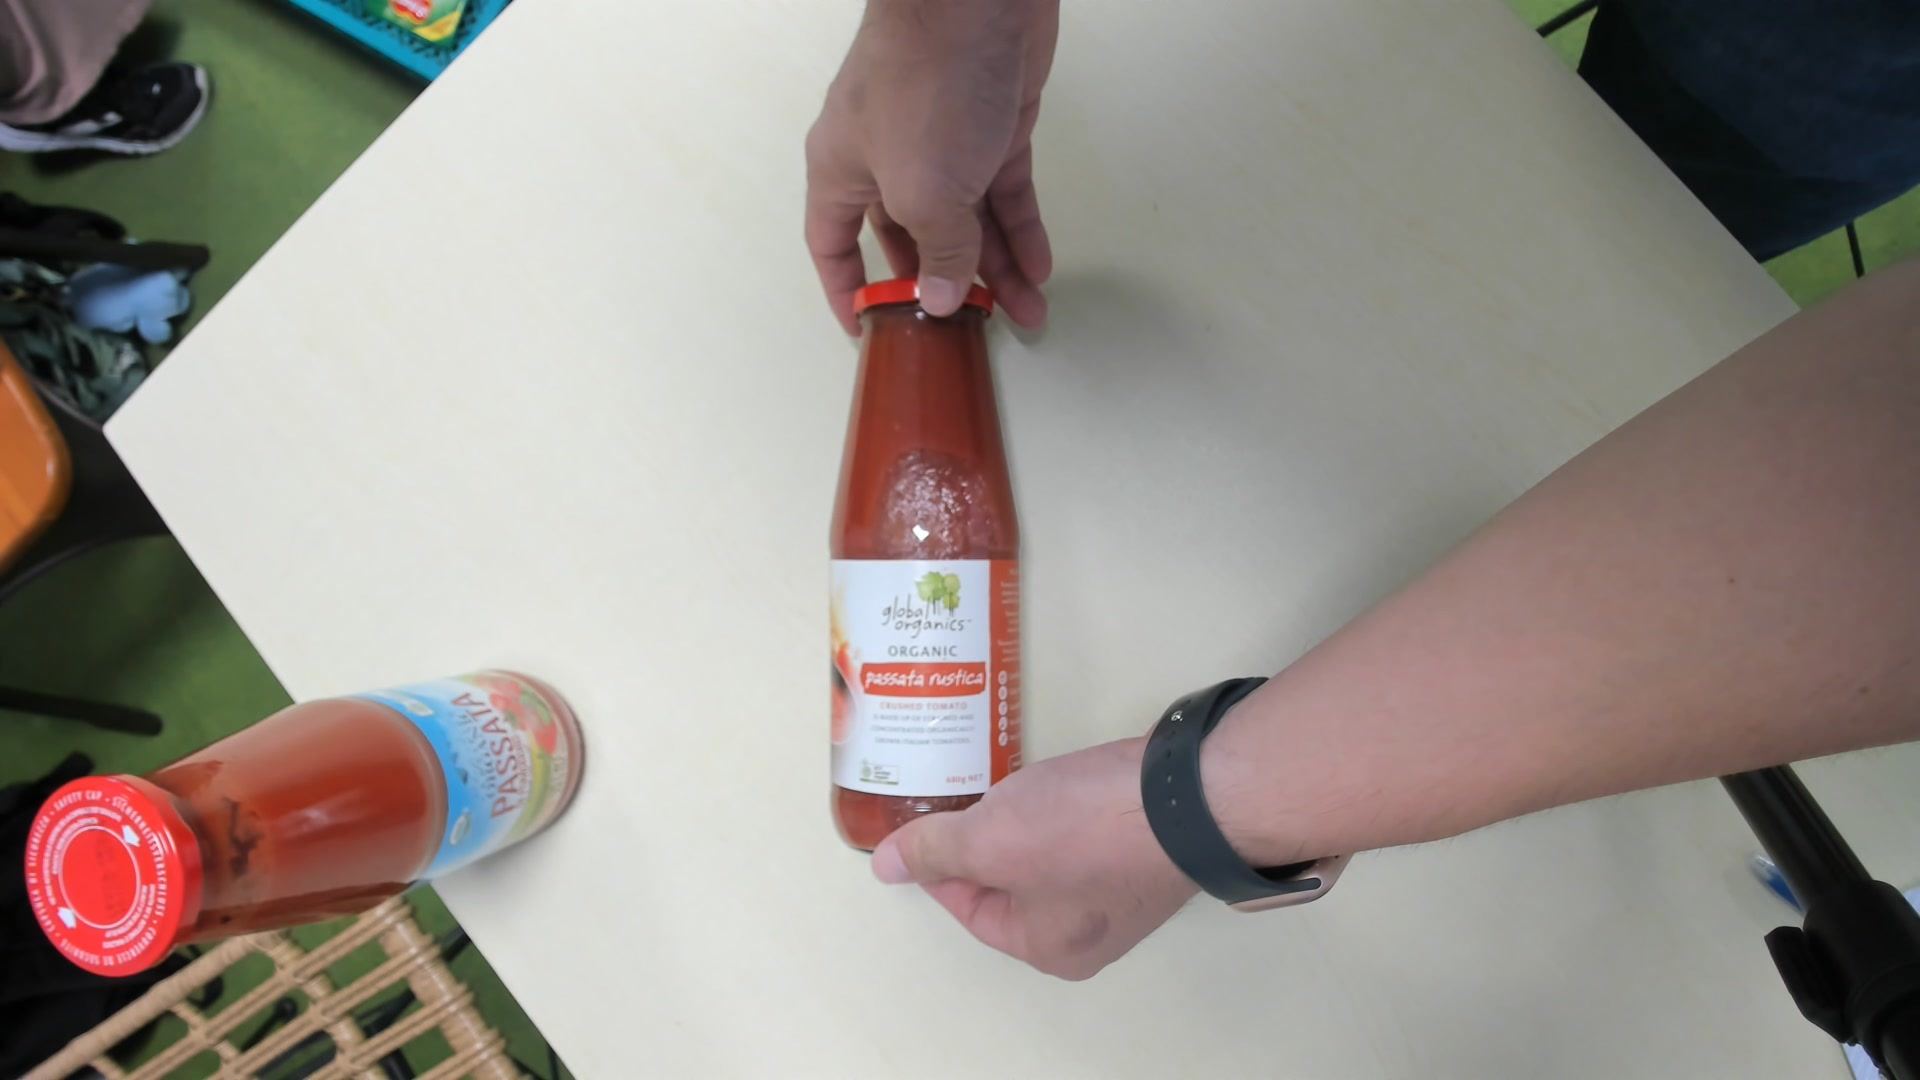PastaSauce_600-699g_NonHalal_NonHealthy: (828, 270, 1025, 856)
